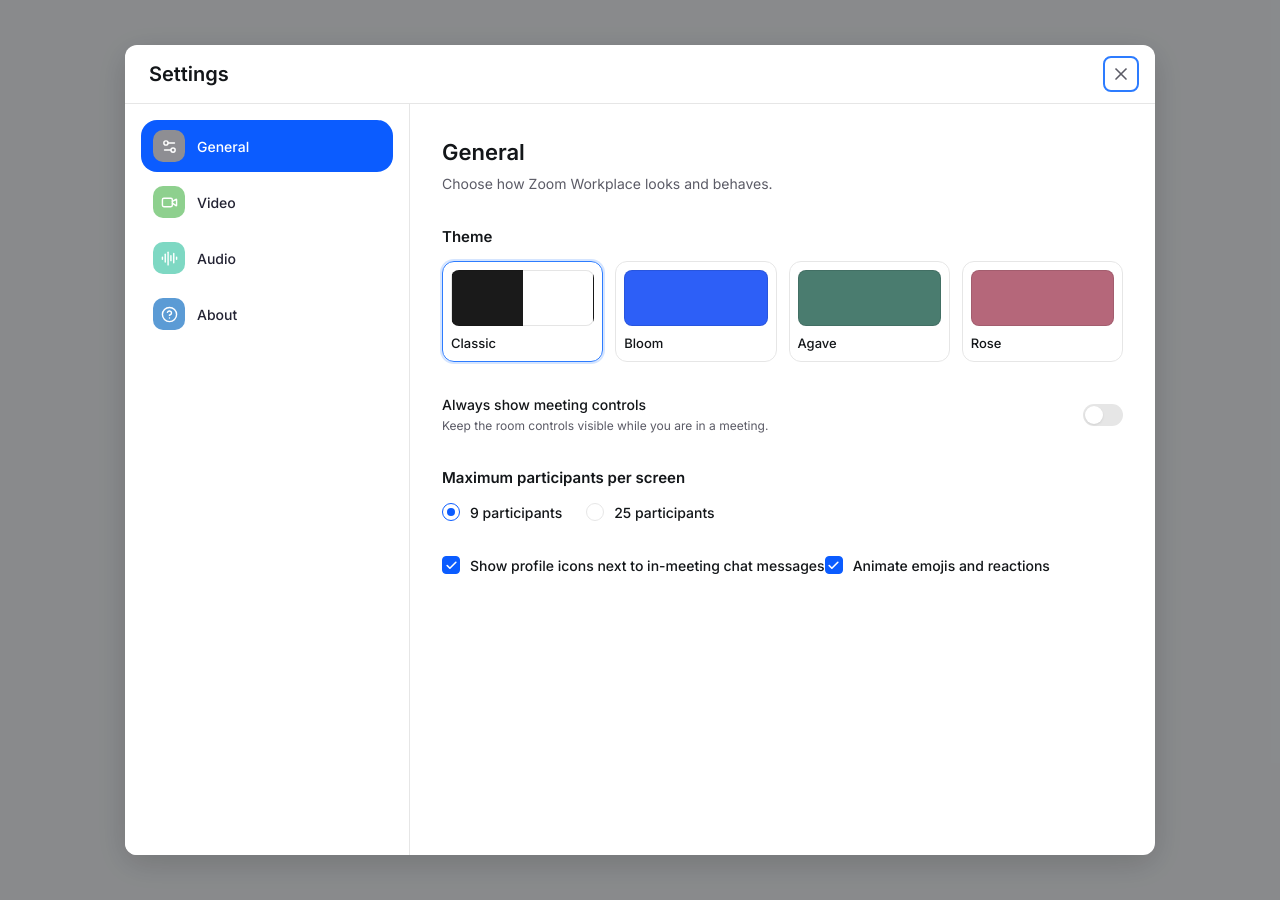
SettingsModal › loads real preferences and saves changed behavior settings
Click the switch named "Always show meeting controls".
click(1103, 414)  # box [1083,404,1123,426]
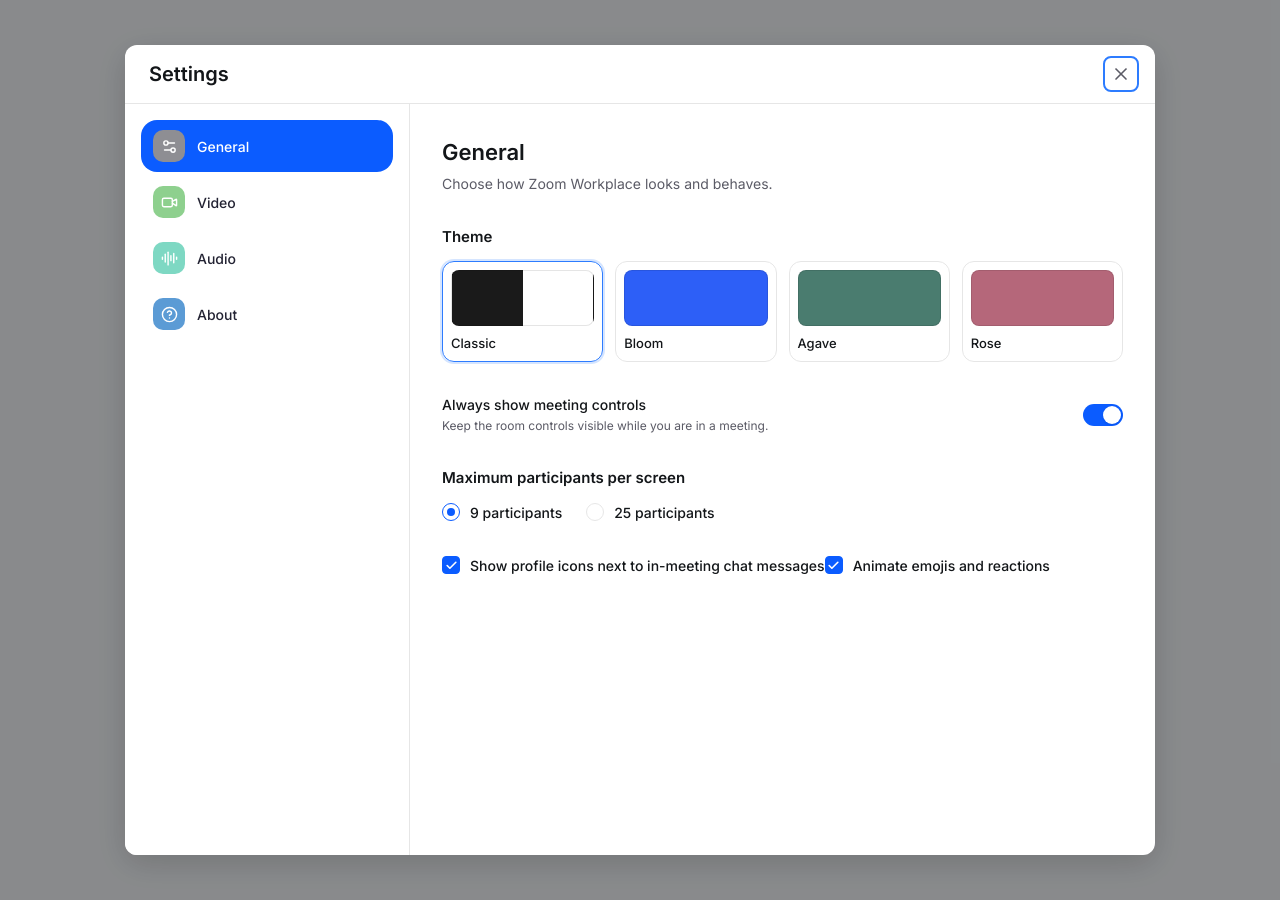
Click the button "Audio".
click(267, 258)  # box [141,232,393,284]
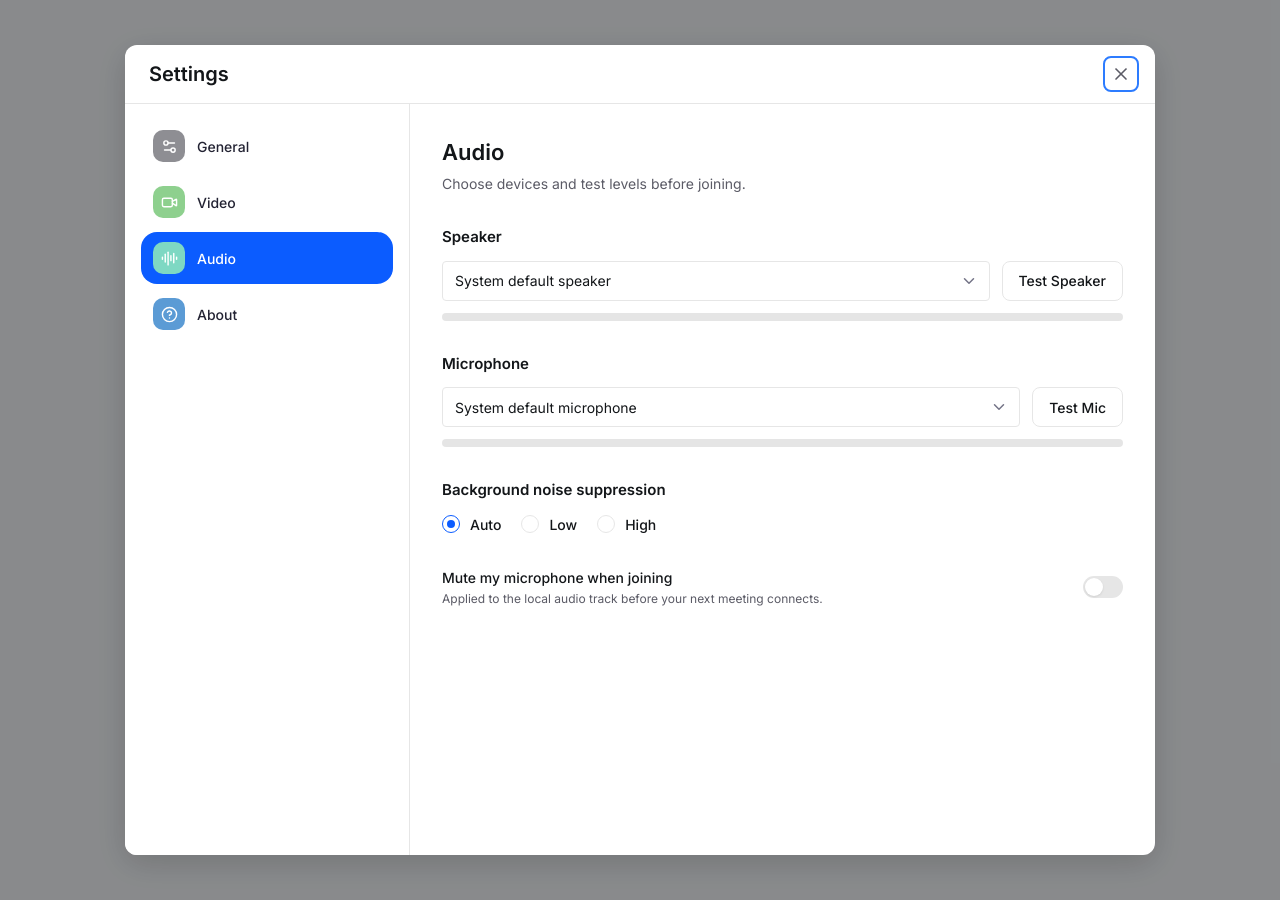
Click the switch named "Mute my microphone when joining".
click(1103, 587)  # box [1083,576,1123,598]
(page scrolled)
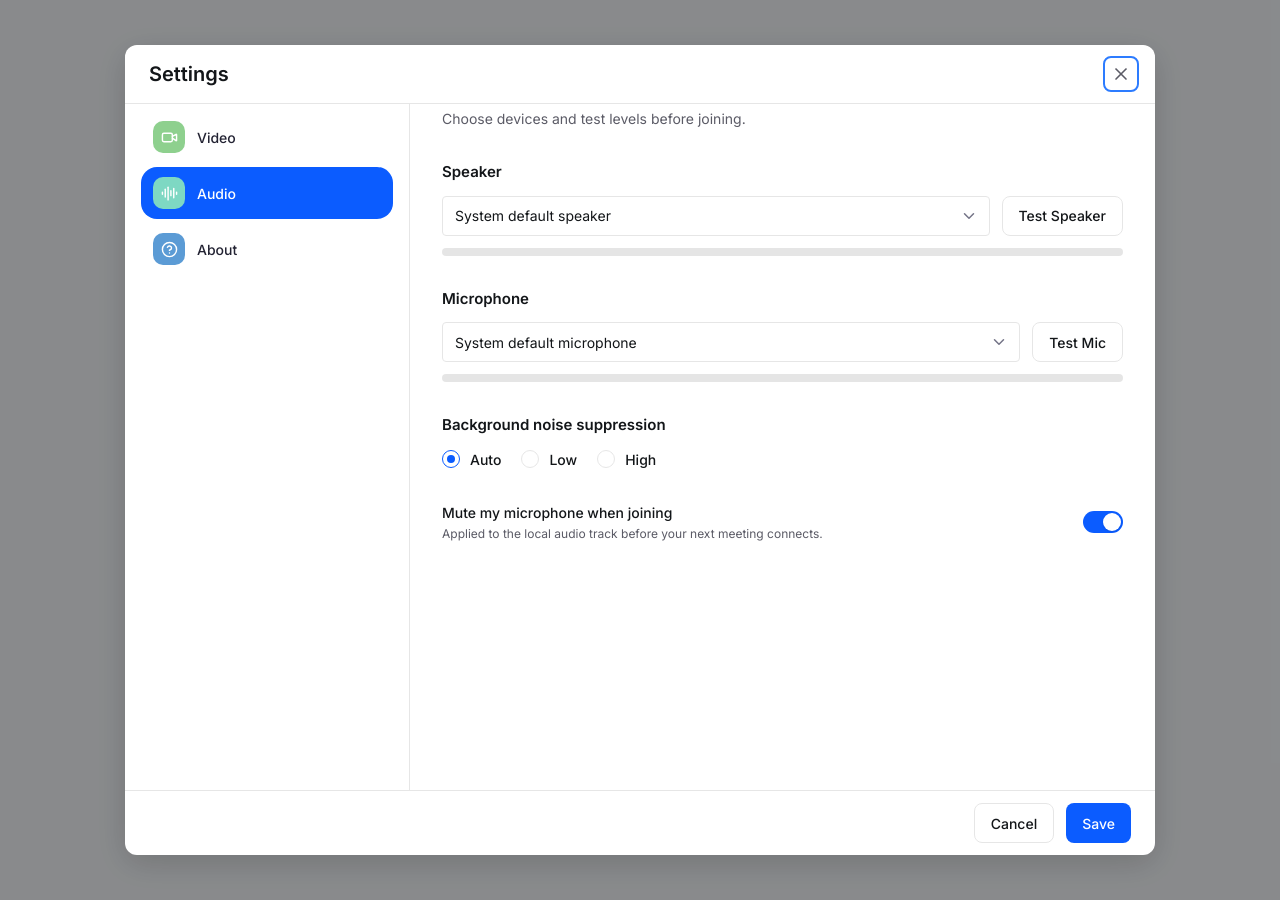
Click the button "Save".
click(1099, 823)  # box [1066,803,1131,843]
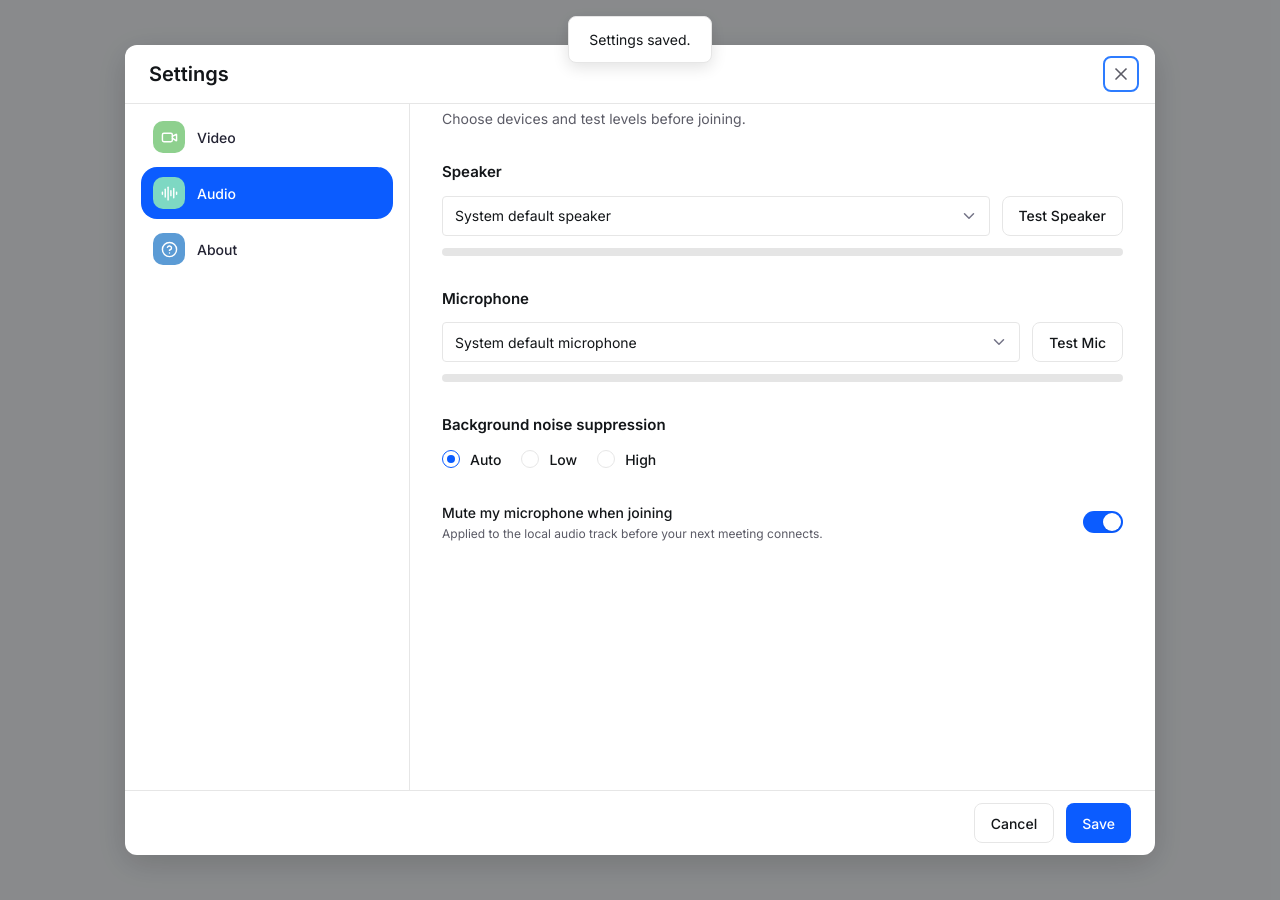
Now the text "Settings saved." is shown, box [568,16,712,63]
